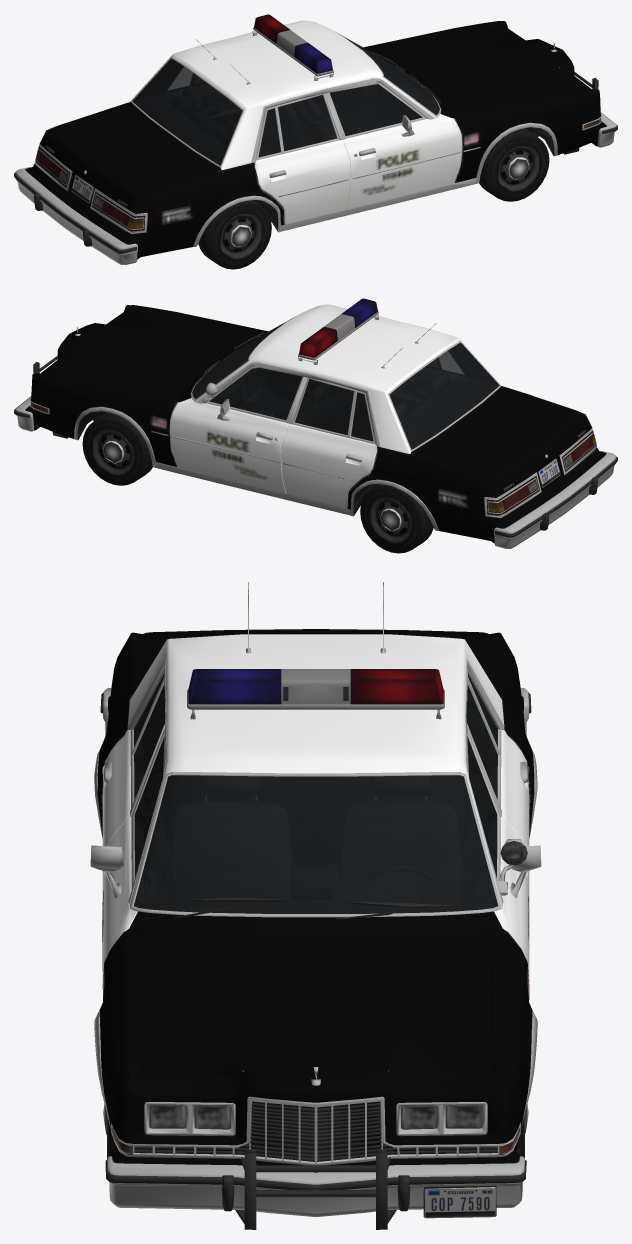
The model's file is police_cruiser.glb.
3 renders of one model, top to bottom at view 1: azimuth 30°, elevation 25°; view 2: azimuth 150°, elevation 25°; view 3: azimuth 270°, elevation 25°, orthographic. The views are drawn at different scales.
Visible parts, largest first — view 1: Negotiator80_Body_Negotiator80_Bodymat_0, Negotiator80_Interior_UCB_Interiors_2_0, Negotiator80_Hood_Negotiator80_Bodymat_0, Negotiator80_bottom_UCB_BOTTOM_0, Negotiator80_Trunk_door_Negotiator80_Bodymat_0, Negotiator80_Glass_back_UCB_Lights_and_Glass_Transperent_0, Negotiator80_WheelStock_FR_RB1c_Tire_1k_0, Negotiator80_WheelStock_RR_RB1c_Tire_1k_0, Negotiator80_Bodyglass_UCB_Lights_and_Glass_Transperent_0, Negotiator80_Bumper_Rear_UCB_BOTTOM_0, Negotiator80_Glass_Passanger_UCB_Lights_and_Glass_Transperen, Negotiator80_Lightbar_UCB_Lights_and_Glass_0 (+5 smaller); view 2: Negotiator80_Body_Negotiator80_Bodymat_0, Negotiator80_Interior_UCB_Interiors_2_0, Negotiator80_Hood_Negotiator80_Bodymat_0, Negotiator80_bottom_UCB_BOTTOM_0, Negotiator80_Trunk_door_Negotiator80_Bodymat_0, Negotiator80_Glass_back_UCB_Lights_and_Glass_Transperent_0, Negotiator80_WheelStock_FL_RB1c_Tire_1k_0, Negotiator80_WheelStock_RL_RB1c_Tire_1k_0, Negotiator80_Bodyglass_UCB_Lights_and_Glass_Transperent_0, Negotiator80_Bumper_Rear_UCB_BOTTOM_0, Negotiator80_Glass_Driver_UCB_Lights_and_Glass_Transperent_0, Negotiator80_Lightbar_UCB_Lights_and_Glass_0 (+5 smaller); view 3: Negotiator80_Body_Negotiator80_Bodymat_0, Negotiator80_Hood_Negotiator80_Bodymat_0, Negotiator80_Interior_UCB_Interiors_2_0, Negotiator80_Windshield_UCB_Lights_and_Glass_Transperent_0, Negotiator80_bottom_UCB_BOTTOM_0, Negotiator80_Bumper_Front_UCB_BOTTOM_0, Negotiator80_Lightbar_UCB_Lights_and_Glass_0, Negotiator80_Bullbar_UCB_BOTTOM_0, Negotiator80_Headlights_Glass_UCB_Lights_and_Glass_Transpere, Negotiator80_Bodyglass_UCB_Lights_and_Glass_Transperent_0, Negotiator80_Headlights_UCB_Lights_and_Glass_0, Negotiator80_Trunk_door_Negotiator80_Bodymat_0 (+4 smaller).
Part boxes in pixels (x1,y1,x2,y2): Negotiator80_Body_Negotiator80_Bodymat_0: (25,20,606,259); Negotiator80_Interior_UCB_Interiors_2_0: (133,50,439,164); Negotiator80_Hood_Negotiator80_Bodymat_0: (367,26,583,113); Negotiator80_bottom_UCB_BOTTOM_0: (35,26,601,246); Negotiator80_Trunk_door_Negotiator80_Bodymat_0: (44,107,210,209); Negotiator80_Glass_back_UCB_Lights_and_Glass_Transperent_0: (132,58,242,165); Negotiator80_WheelStock_FR_RB1c_Tire_1k_0: (479,128,549,201); Negotiator80_WheelStock_RR_RB1c_Tire_1k_0: (198,200,271,269); Negotiator80_Bodyglass_UCB_Lights_and_Glass_Transperent_0: (194,76,336,157); Negotiator80_Bumper_Rear_UCB_BOTTOM_0: (14,167,137,264); Negotiator80_Glass_Passanger_UCB_Lights_and_Glass_Transperen: (330,84,422,135); Negotiator80_Lightbar_UCB_Lights_and_Glass_0: (252,14,333,80); Negotiator80_Body_Negotiator80_Bodymat_0: (25,304,606,543); Negotiator80_Interior_UCB_Interiors_2_0: (192,334,498,448); Negotiator80_Hood_Negotiator80_Bodymat_0: (48,310,264,397); Negotiator80_bottom_UCB_BOTTOM_0: (30,312,596,530); Negotiator80_Trunk_door_Negotiator80_Bodymat_0: (421,391,587,493); Negotiator80_Glass_back_UCB_Lights_and_Glass_Transperent_0: (389,342,499,449); Negotiator80_WheelStock_FL_RB1c_Tire_1k_0: (82,412,152,485); Negotiator80_WheelStock_RL_RB1c_Tire_1k_0: (360,484,433,553); Negotiator80_Bodyglass_UCB_Lights_and_Glass_Transperent_0: (295,359,437,441); Negotiator80_Bumper_Rear_UCB_BOTTOM_0: (494,451,617,548); Negotiator80_Glass_Driver_UCB_Lights_and_Glass_Transperent_0: (209,367,301,419); Negotiator80_Lightbar_UCB_Lights_and_Glass_0: (298,298,378,364); Negotiator80_Body_Negotiator80_Bodymat_0: (97,632,534,1172); Negotiator80_Hood_Negotiator80_Bodymat_0: (140,932,491,1078); Negotiator80_Interior_UCB_Interiors_2_0: (134,694,497,917); Negotiator80_Windshield_UCB_Lights_and_Glass_Transperent_0: (134,775,497,913); Negotiator80_bottom_UCB_BOTTOM_0: (90,659,541,1165); Negotiator80_Bumper_Front_UCB_BOTTOM_0: (105,1156,526,1216); Negotiator80_Lightbar_UCB_Lights_and_Glass_0: (187,669,444,719); Negotiator80_Bullbar_UCB_BOTTOM_0: (235,1149,396,1229); Negotiator80_Headlights_Glass_UCB_Lights_and_Glass_Transpere: (112,1104,519,1154); Negotiator80_Bodyglass_UCB_Lights_and_Glass_Transperent_0: (134,675,497,799); Negotiator80_Headlights_UCB_Lights_and_Glass_0: (150,1105,481,1128); Negotiator80_Trunk_door_Negotiator80_Bodymat_0: (146,629,485,672).
Size of the model in its own units: 4.98 by 1.6 by 1.86.
Materials: 8 (8 with a texture image).
